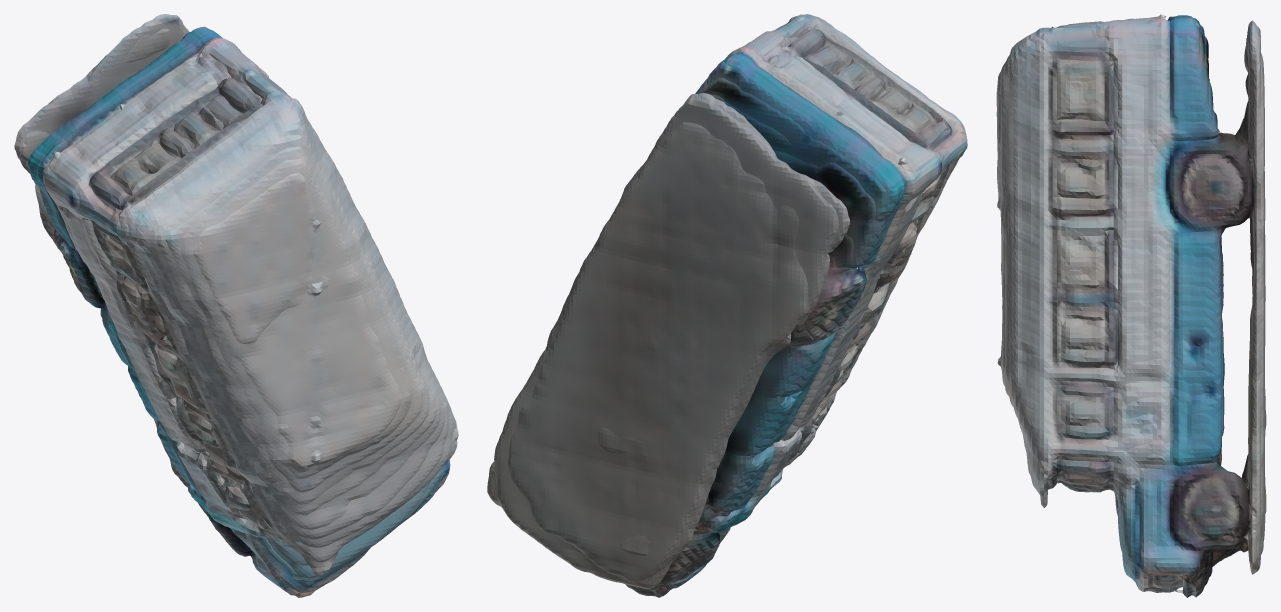
File: 000015_bus_kawz-3976_isolated.glb
3 views of the same model, side by side, from view 1: azimuth 30°, elevation 25°; view 2: azimuth 150°, elevation 25°; view 3: azimuth 270°, elevation 25° (orthographic). The views are drawn at different scales.
Parts seen in each view (by area): view 1: world; view 2: world; view 3: world.
Boxes of the visible parts, <box> form: world: <box>14,14,458,597</box>; world: <box>487,14,967,597</box>; world: <box>996,14,1266,597</box>.
Bounding box in the file's own units: 0.6816 × 0.9263 × 0.4244.
